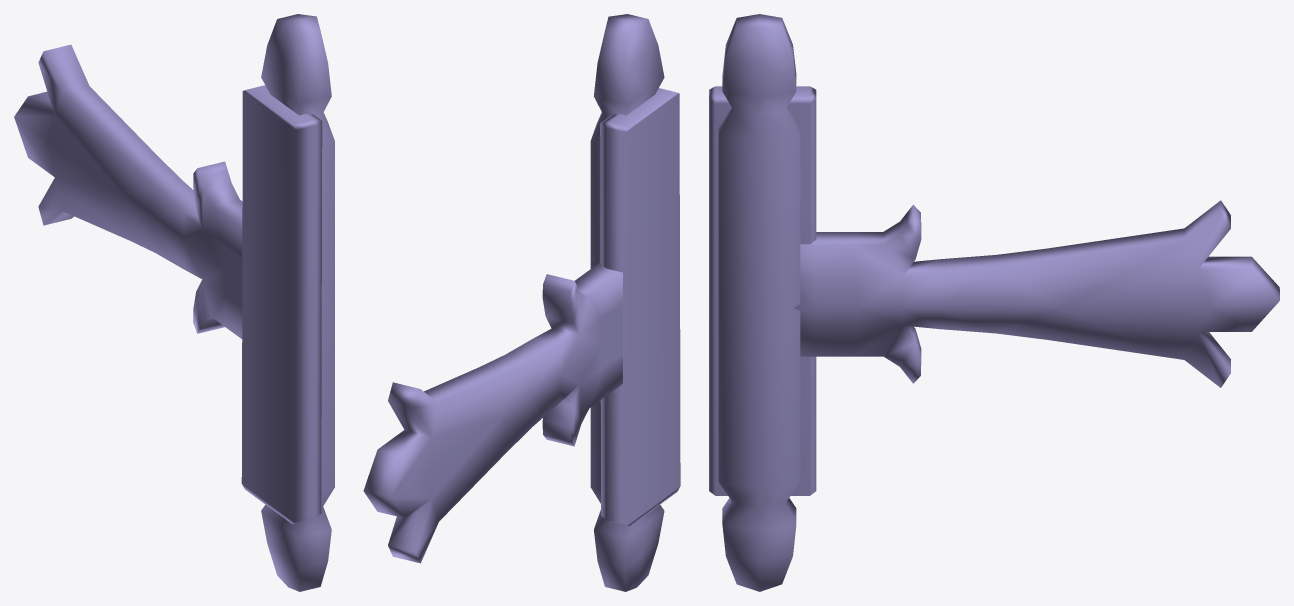
The model's file is Door_IronWorks_02.fbx.
3 renders of one model, left to right at view 1: azimuth 30°, elevation 25°; view 2: azimuth 150°, elevation 25°; view 3: azimuth 270°, elevation 25°, orthographic.
Visible parts, largest first — view 1: Door_IronWorks_02; view 2: Door_IronWorks_02; view 3: Door_IronWorks_02.
Boxes of the visible parts, x1,y1,x2,y2 form: Door_IronWorks_02: (14, 14, 334, 591); Door_IronWorks_02: (363, 14, 680, 591); Door_IronWorks_02: (709, 14, 1279, 591).
Bounding box in the file's own units: 4.65 × 43.11 × 39.53.
